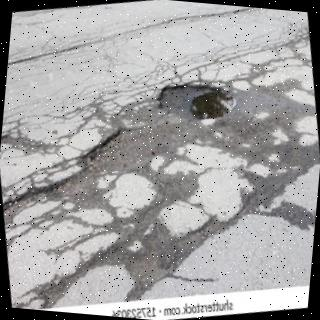pothole: (159, 85, 237, 121)
